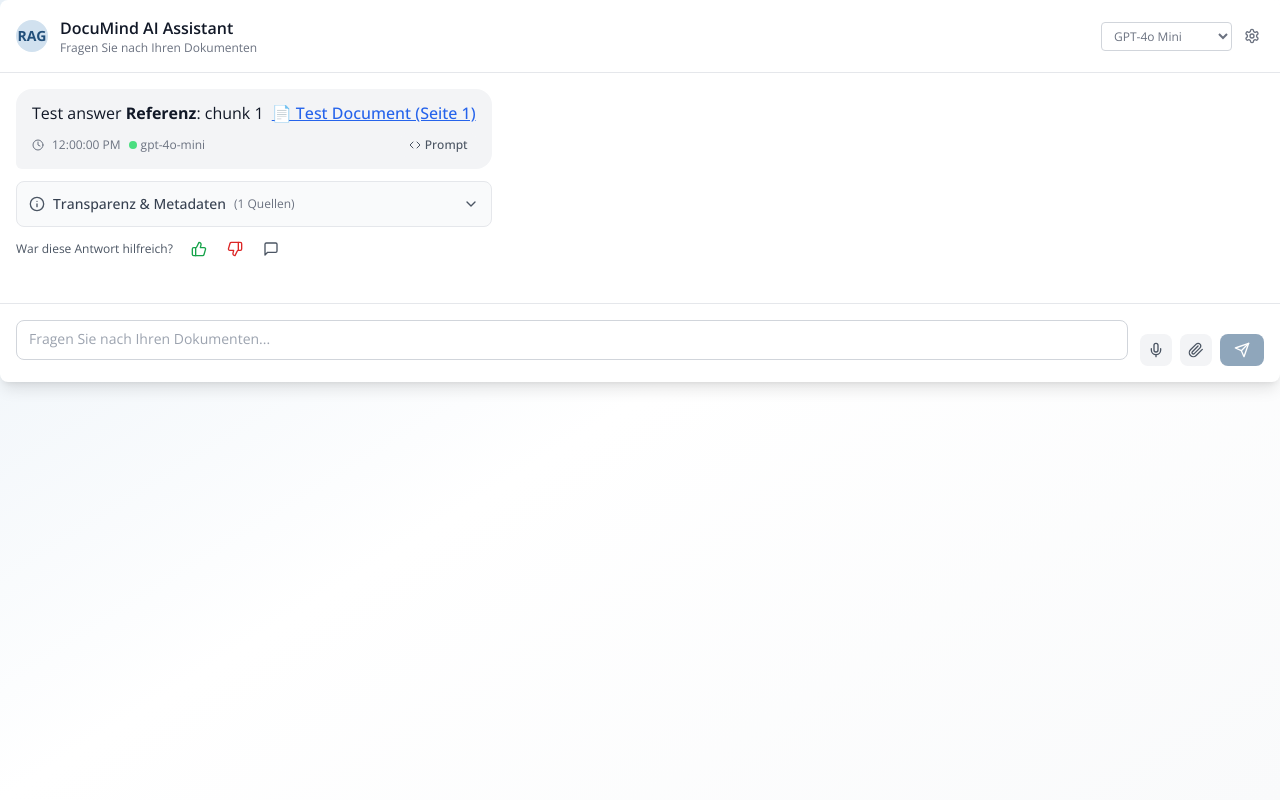
it: RAGChat - Text-Highlighting › should highlight query words case-insensitively
Expected: the text "Test answer Referenz: chunk 1 📄 Test Document (Seite 1)" is shown, x1=32 y1=101 x2=476 y2=125
Click the button "Transparenz & Metadaten (1 Quellen)" at coordinates (254, 204), box x1=17 y1=182 x2=491 y2=226
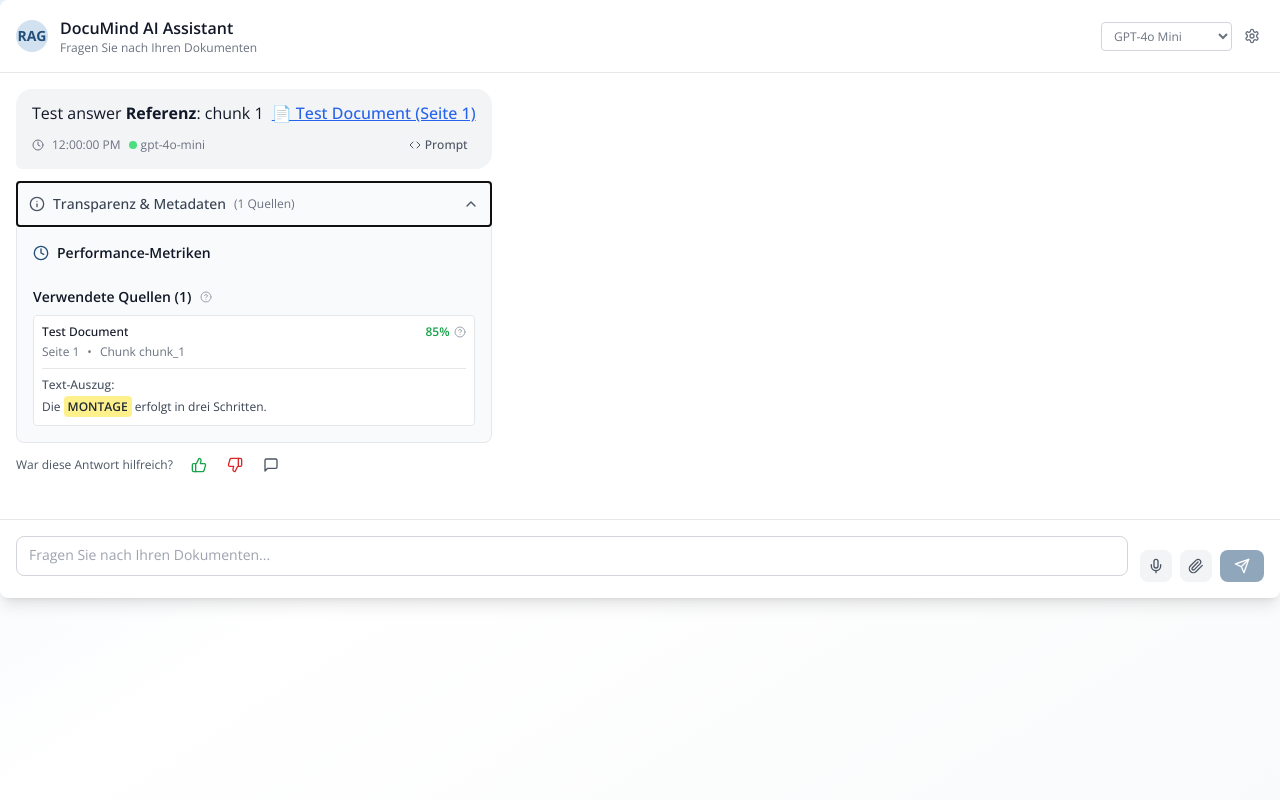
Now the text "MONTAGE" is shown, box x1=64 y1=396 x2=132 y2=417
